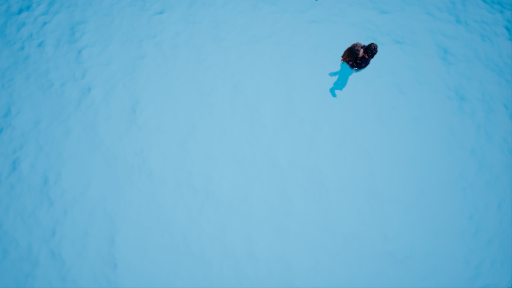person: (328, 37, 382, 109)
